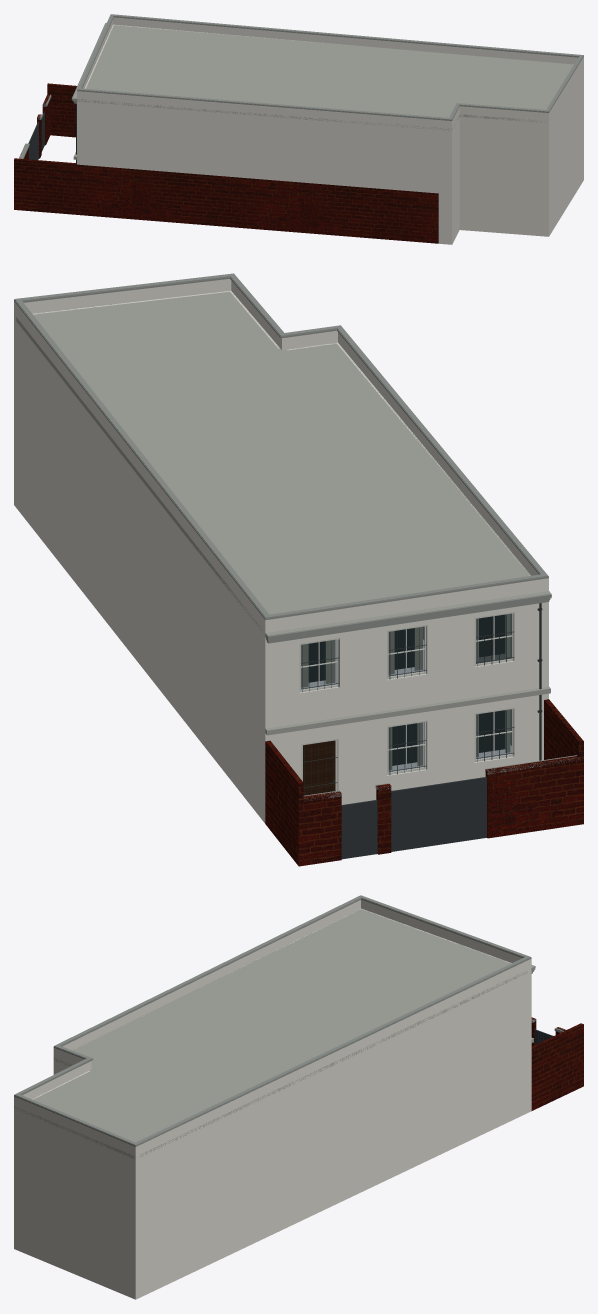
Rendered from building.glb.
The picture shows the model from 3 angles, top to bottom: view 1: azimuth 30°, elevation 25°; view 2: azimuth 150°, elevation 25°; view 3: azimuth 270°, elevation 25°; orthographic projection. The views are drawn at different scales.
Parts seen in each view (by area): view 1: roof/main:0/roof_slab#0001, main:0/edge0/z0/main:0/edge0/z0/wall_0_0, site/fence/0/wall#0001, main:0/edge2/z0/main:0/edge2/z0/wall_0_0, roof/main:0/parapet#0001, main:0/edge3/z0/main:0/edge3/z0/wall_0_0/core0, roof/main:0/parapet_cap#0002, roof/main:0/parapet_cap#0001, site/fence/1/wall#0001, main:0/edge1/z0/main:0/edge1/z0/wall_0_0; view 2: roof/main:0/roof_slab#0001, main:0/edge4/z0/main:0/edge4/z0/wall_0_0/core0, main:0/edge5/z0/main:0/edge5/z0/wall_0_0/core0, roof/main:0/parapet#0001, site/fence/2/wall#0003, roof/main:0/parapet_cap#0002, site/fence/2/garage_door#0001, site/fence/1/wall#0001, site/fence/2/wall#0001, roof/main:0/parapet_cap#0001, main:0/edge5/z0/floor_slab#0001, site/fence/2/pedestrian_gate#0001 (+13 smaller); view 3: main:0/edge4/z0/main:0/edge4/z0/wall_0_0/core0, roof/main:0/roof_slab#0001, main:0/edge3/z0/main:0/edge3/z0/wall_0_0/core0, roof/main:0/parapet#0001, roof/main:0/parapet_cap#0002, site/fence/1/wall#0001, roof/main:0/parapet_cap#0001, main:0/edge3/z0/main:0/edge3/z0/wall_0_0/clip1, main:0/edge5/z0/main:0/edge5/z0/wall_0_0/clip1.
Boxes of the visible parts, x1,y1,x2,y2 form: roof/main:0/roof_slab#0001: (77,25,573,131); main:0/edge0/z0/main:0/edge0/z0/wall_0_0: (77,99,451,244); site/fence/0/wall#0001: (14,158,438,243); main:0/edge2/z0/main:0/edge2/z0/wall_0_0: (459,114,548,236); roof/main:0/parapet#0001: (77,17,583,128); main:0/edge3/z0/main:0/edge3/z0/wall_0_0/core0: (549,64,583,236); roof/main:0/parapet_cap#0002: (77,14,583,119); roof/main:0/parapet_cap#0001: (77,16,583,120); site/fence/1/wall#0001: (47,83,76,137); main:0/edge1/z0/main:0/edge1/z0/wall_0_0: (452,114,459,244); roof/main:0/roof_slab#0001: (14,291,530,632); main:0/edge4/z0/main:0/edge4/z0/wall_0_0/core0: (16,321,271,820); main:0/edge5/z0/main:0/edge5/z0/wall_0_0/core0: (272,602,548,804); roof/main:0/parapet#0001: (14,279,548,632); site/fence/2/wall#0003: (485,756,583,838); roof/main:0/parapet_cap#0002: (14,273,547,618); site/fence/2/garage_door#0001: (391,777,486,851); site/fence/1/wall#0001: (265,740,303,866); site/fence/2/wall#0001: (297,791,341,865); roof/main:0/parapet_cap#0001: (14,277,548,620); main:0/edge5/z0/floor_slab#0001: (265,686,550,735); site/fence/2/pedestrian_gate#0001: (341,800,377,859); main:0/edge4/z0/main:0/edge4/z0/wall_0_0/core0: (136,970,527,1297); roof/main:0/roof_slab#0001: (14,908,527,1158); main:0/edge3/z0/main:0/edge3/z0/wall_0_0/core0: (14,1106,135,1299); roof/main:0/parapet#0001: (14,899,531,1156); roof/main:0/parapet_cap#0002: (14,895,530,1145); site/fence/1/wall#0001: (531,1023,583,1110); roof/main:0/parapet_cap#0001: (14,898,531,1146); main:0/edge3/z0/main:0/edge3/z0/wall_0_0/clip1: (135,1155,139,1299); main:0/edge5/z0/main:0/edge5/z0/wall_0_0/clip1: (528,968,531,1112).
Size of the model in its own units: 24.78 by 6.59 by 21.64.
Materials: 10 (2 with a texture image).
